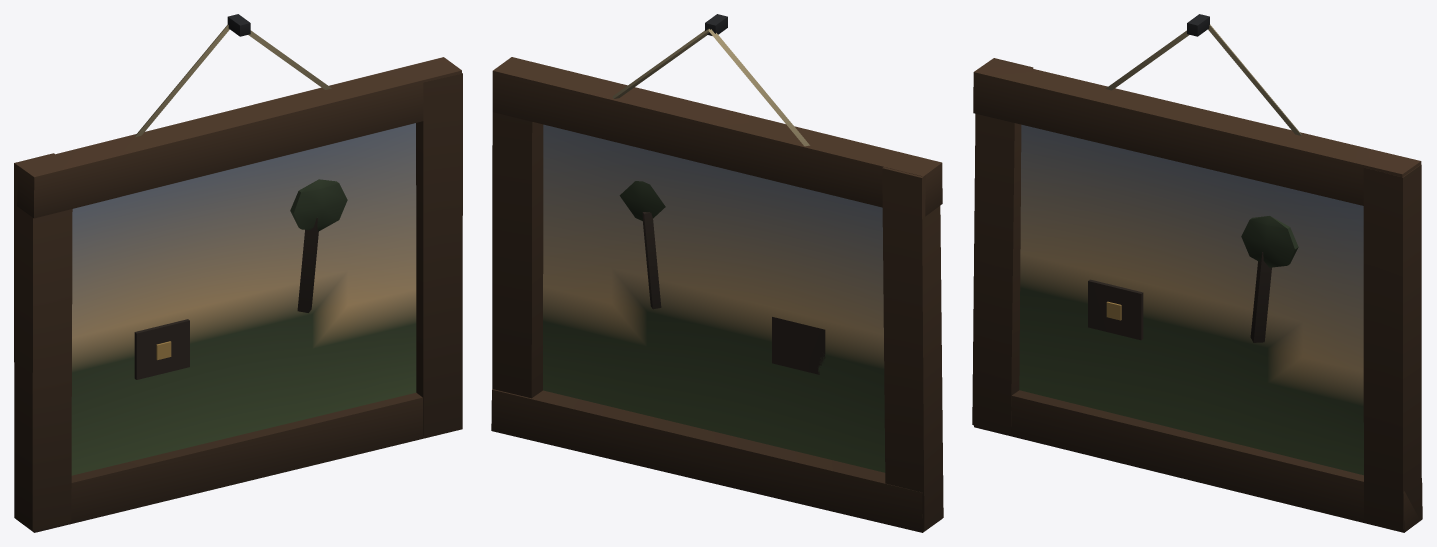
Rendered from ph_int_picture.glb.
3 renders of one model, left to right at view 1: azimuth 30°, elevation 25°; view 2: azimuth 150°, elevation 25°; view 3: azimuth 330°, elevation 25°, orthographic.
Visible parts, largest first — view 1: ph_int_picture; view 2: ph_int_picture; view 3: ph_int_picture.
Boxes of the visible parts, x1,y1,x2,y2 form: ph_int_picture: (14,14,462,532); ph_int_picture: (491,14,943,532); ph_int_picture: (972,14,1422,532).
Size of the model in its own units: 0.4852 by 0.4895 by 0.0396.
